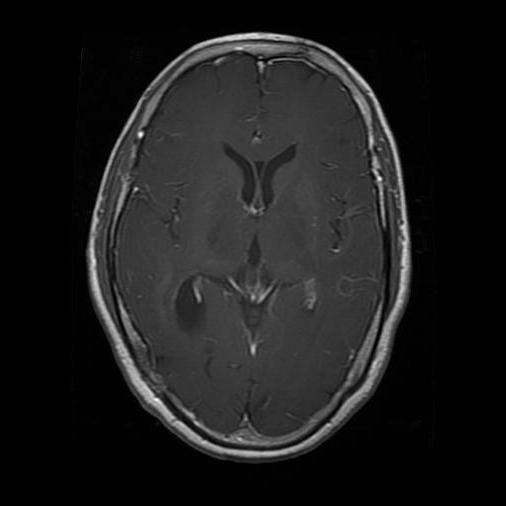Tumour-Glioma: (85, 215, 150, 308)
